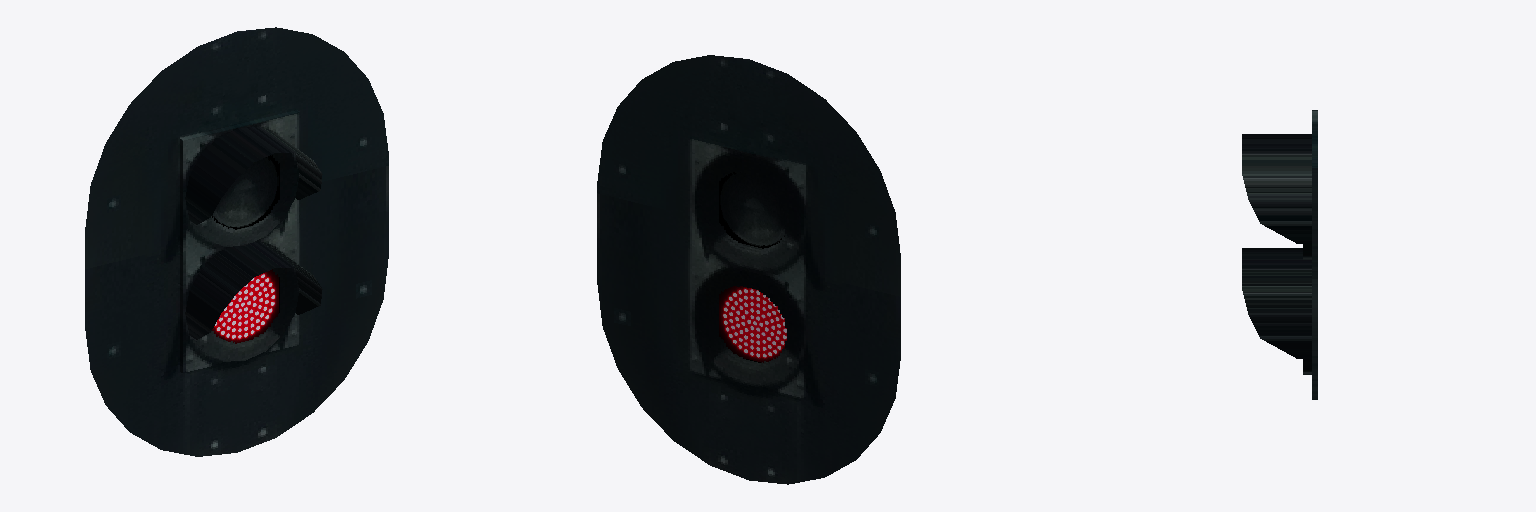
3 renders of one model, left to right at view 1: azimuth 30°, elevation 25°; view 2: azimuth 150°, elevation 25°; view 3: azimuth 270°, elevation 25°, orthographic.
Bounding box in the file's own units: 0.58 × 0.77 × 0.125.
4 materials, 4 textured.